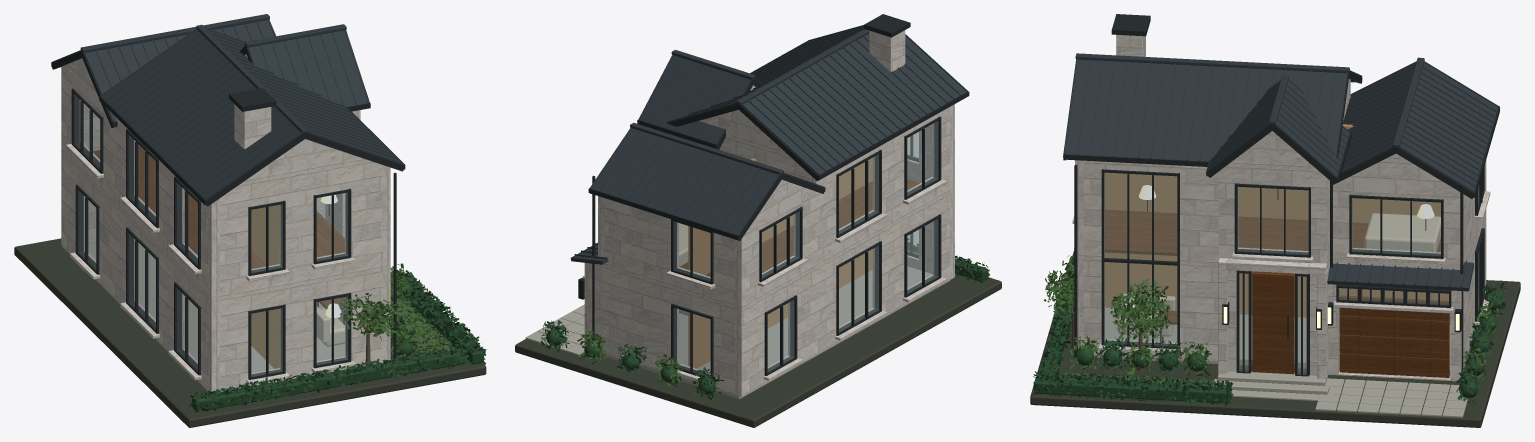
File: house.glb
3 views of the same model, side by side, from view 1: azimuth 30°, elevation 25°; view 2: azimuth 150°, elevation 25°; view 3: azimuth 270°, elevation 25° (orthographic). The views are drawn at different scales.
Parts seen in each view (by area): view 1: House-Facade-West, House-Facade-Rear, House-Garden-Foundation, House-Roof-Main-Slope-1, House-Roof-Tower-Slope--1, House-Roof-Main-Slope--1, House-Hedge-Core-1, House-Garden-Hedge-1, House-Roof-Garage-Slope--1, House-Interior-Backdrop, House-Interior-Floor, House-Ground-Floor (+35 smaller); view 2: House-Facade-Rear, House-Facade-East, House-Roof-Main-Slope-1, House-Garden-Foundation, House-Roof-Garage-Slope-1, House-Roof-Tower-Slope-1, House-Interior-Backdrop, House-Ground-Floor, House-Main-East-Gable, House-Facade-West, House-Rear-Window-2-Glass, House-Rear-Window-3-Glass (+29 smaller); view 3: House-Roof-Main-Slope--1, House-Facade-Left, House-Garden-Foundation, House-Interior-Backdrop, House-Tall-Window-Glass, House-Facade-Tower, House-Garage-Upper-Facade, House-Roof-Garage-Slope-1, House-Interior-Floor, House-Garage-Upper-Window-Glass, House-Tower-Window-Glass, House-Entry-Door (+51 smaller).
Boxes of the visible parts, x1,y1,x2,y2 form: House-Facade-West: [208, 139, 382, 391]; House-Facade-Rear: [61, 65, 219, 391]; House-Garden-Foundation: [14, 238, 486, 427]; House-Roof-Main-Slope-1: [101, 30, 300, 198]; House-Roof-Tower-Slope--1: [249, 30, 367, 107]; House-Roof-Main-Slope--1: [209, 31, 400, 163]; House-Hedge-Core-1: [192, 349, 464, 411]; House-Garden-Hedge-1: [189, 345, 465, 412]; House-Roof-Garage-Slope--1: [85, 20, 274, 121]; House-Interior-Backdrop: [251, 205, 279, 368]; House-Interior-Floor: [93, 144, 344, 268]; House-Ground-Floor: [88, 242, 344, 372]; House-Facade-Rear: [735, 107, 949, 396]; House-Facade-East: [591, 198, 735, 394]; House-Roof-Main-Slope-1: [743, 33, 966, 174]; House-Garden-Foundation: [515, 274, 1001, 427]; House-Roof-Garage-Slope-1: [591, 128, 777, 234]; House-Roof-Tower-Slope-1: [640, 55, 749, 143]; House-Interior-Backdrop: [688, 158, 872, 368]; House-Ground-Floor: [604, 266, 950, 399]; House-Main-East-Gable: [699, 110, 809, 181]; House-Facade-West: [907, 104, 954, 279]; House-Rear-Window-2-Glass: [839, 245, 878, 331]; House-Rear-Window-3-Glass: [839, 154, 878, 234]; House-Roof-Main-Slope--1: [1065, 59, 1346, 161]; House-Facade-Left: [1083, 160, 1218, 361]; House-Garden-Foundation: [1030, 259, 1520, 427]; House-Interior-Backdrop: [1105, 124, 1450, 324]; House-Tall-Window-Glass: [1104, 173, 1176, 346]; House-Facade-Tower: [1219, 131, 1327, 378]; House-Garage-Upper-Facade: [1333, 153, 1463, 269]; House-Roof-Garage-Slope-1: [1400, 62, 1497, 190]; House-Interior-Floor: [1105, 209, 1440, 255]; House-Garage-Upper-Window-Glass: [1352, 198, 1440, 255]; House-Tower-Window-Glass: [1237, 187, 1308, 254]; House-Entry-Door: [1252, 271, 1294, 374].
Size of the model in its own units: 2.49 by 2.1 by 3.2.
Materials: 14 (2 with a texture image).
